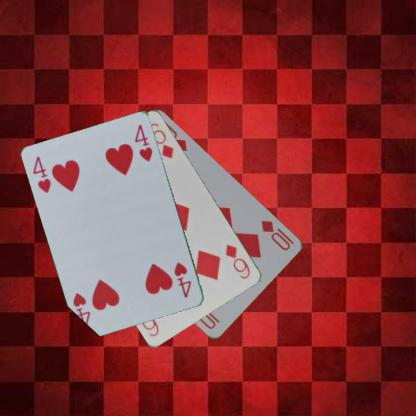10d: (259, 217, 296, 252)
4h: (30, 154, 52, 194), (172, 260, 193, 300)
6d: (223, 241, 252, 281)
